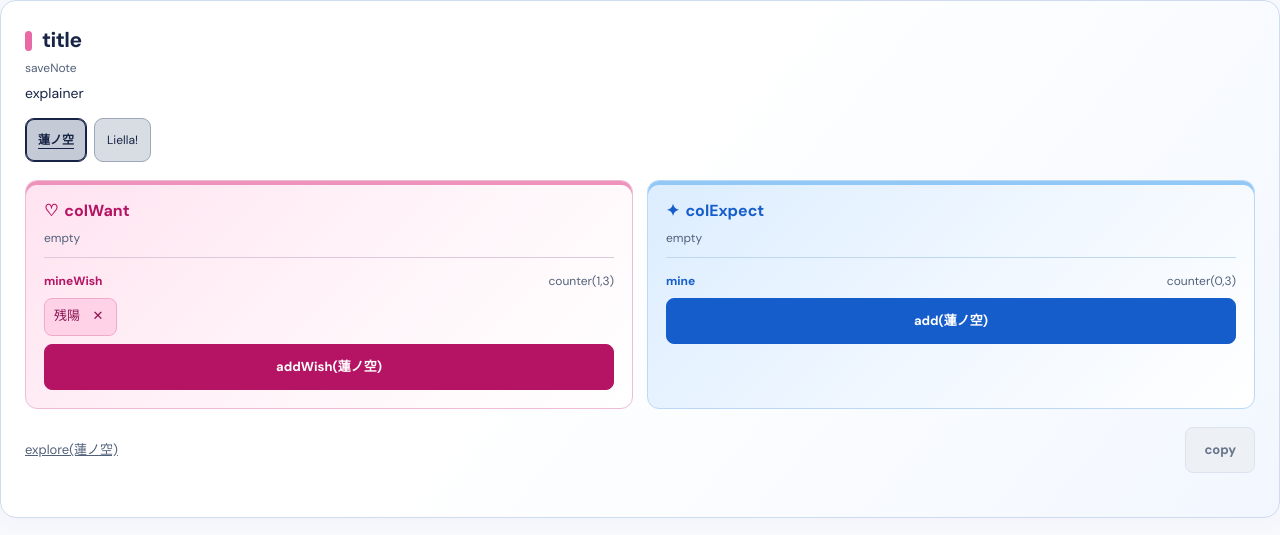
it: <FanBoardSection> want column › removes a wish: DELETE with the anon id; board_wish_remove
The image size is (1280, 535).
Click the button named "removeAria(残陽)".
click(98, 316)  # box [84,302,112,330]
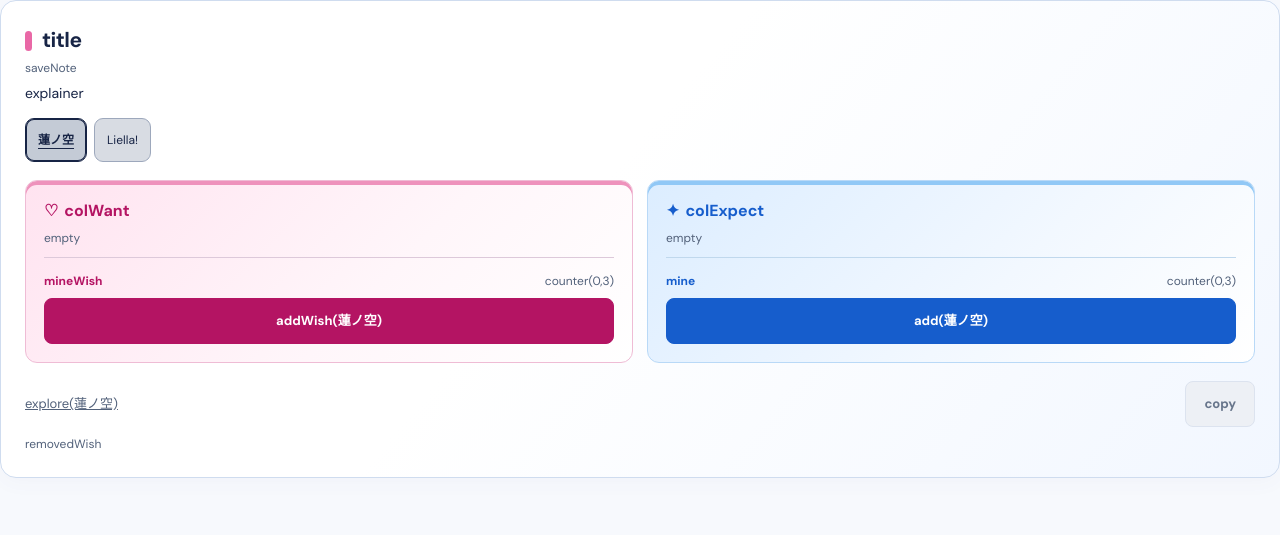
Expected: the message with test id "board-toast" reads "removedWish", [25,436,101,452]
